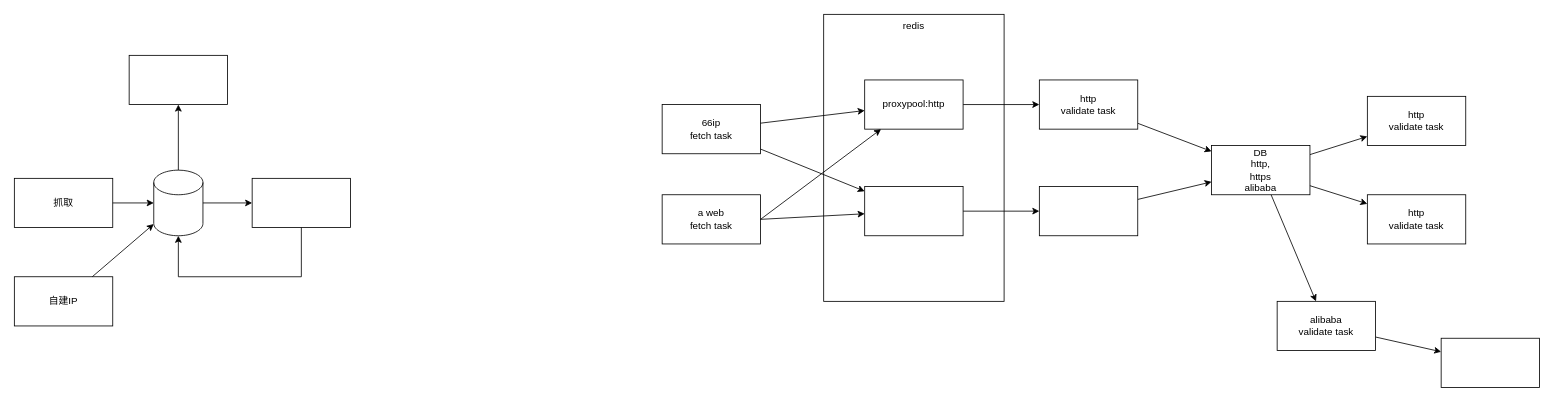
This 1554x402 diagram has some shape labels left out. The shapes that lost their labels are listed below. From the top down, each one's centre as x and y in pixels, then its label:
the point at 178,80: API
the point at 301,203: 校验
the point at 913,211: proxypool:https
the point at 1088,211: https validate task
the point at 1490,362: DB alibaba
